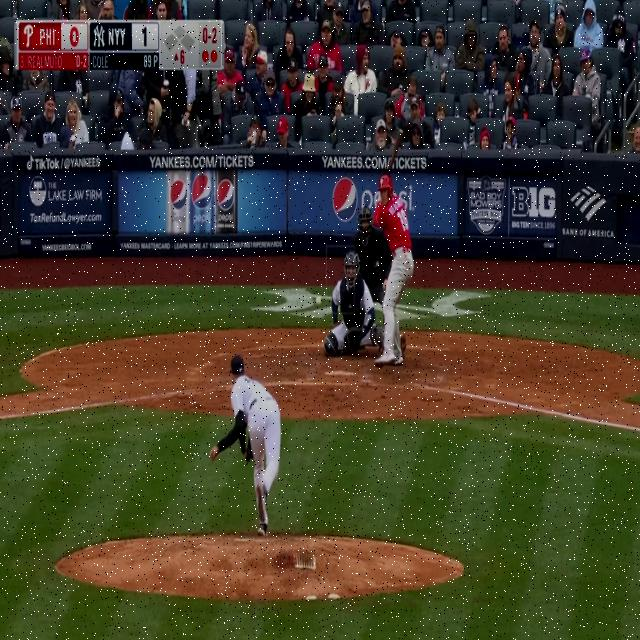baseball: (316, 296, 322, 306)
